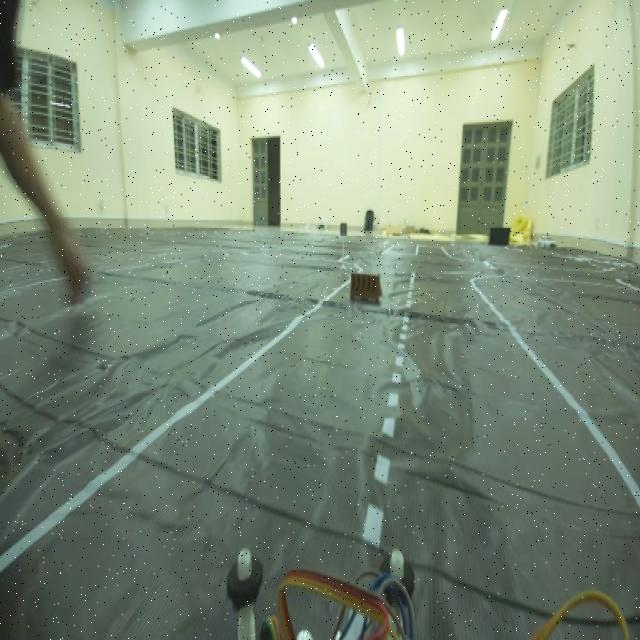roadblock: (343, 262, 385, 318)
